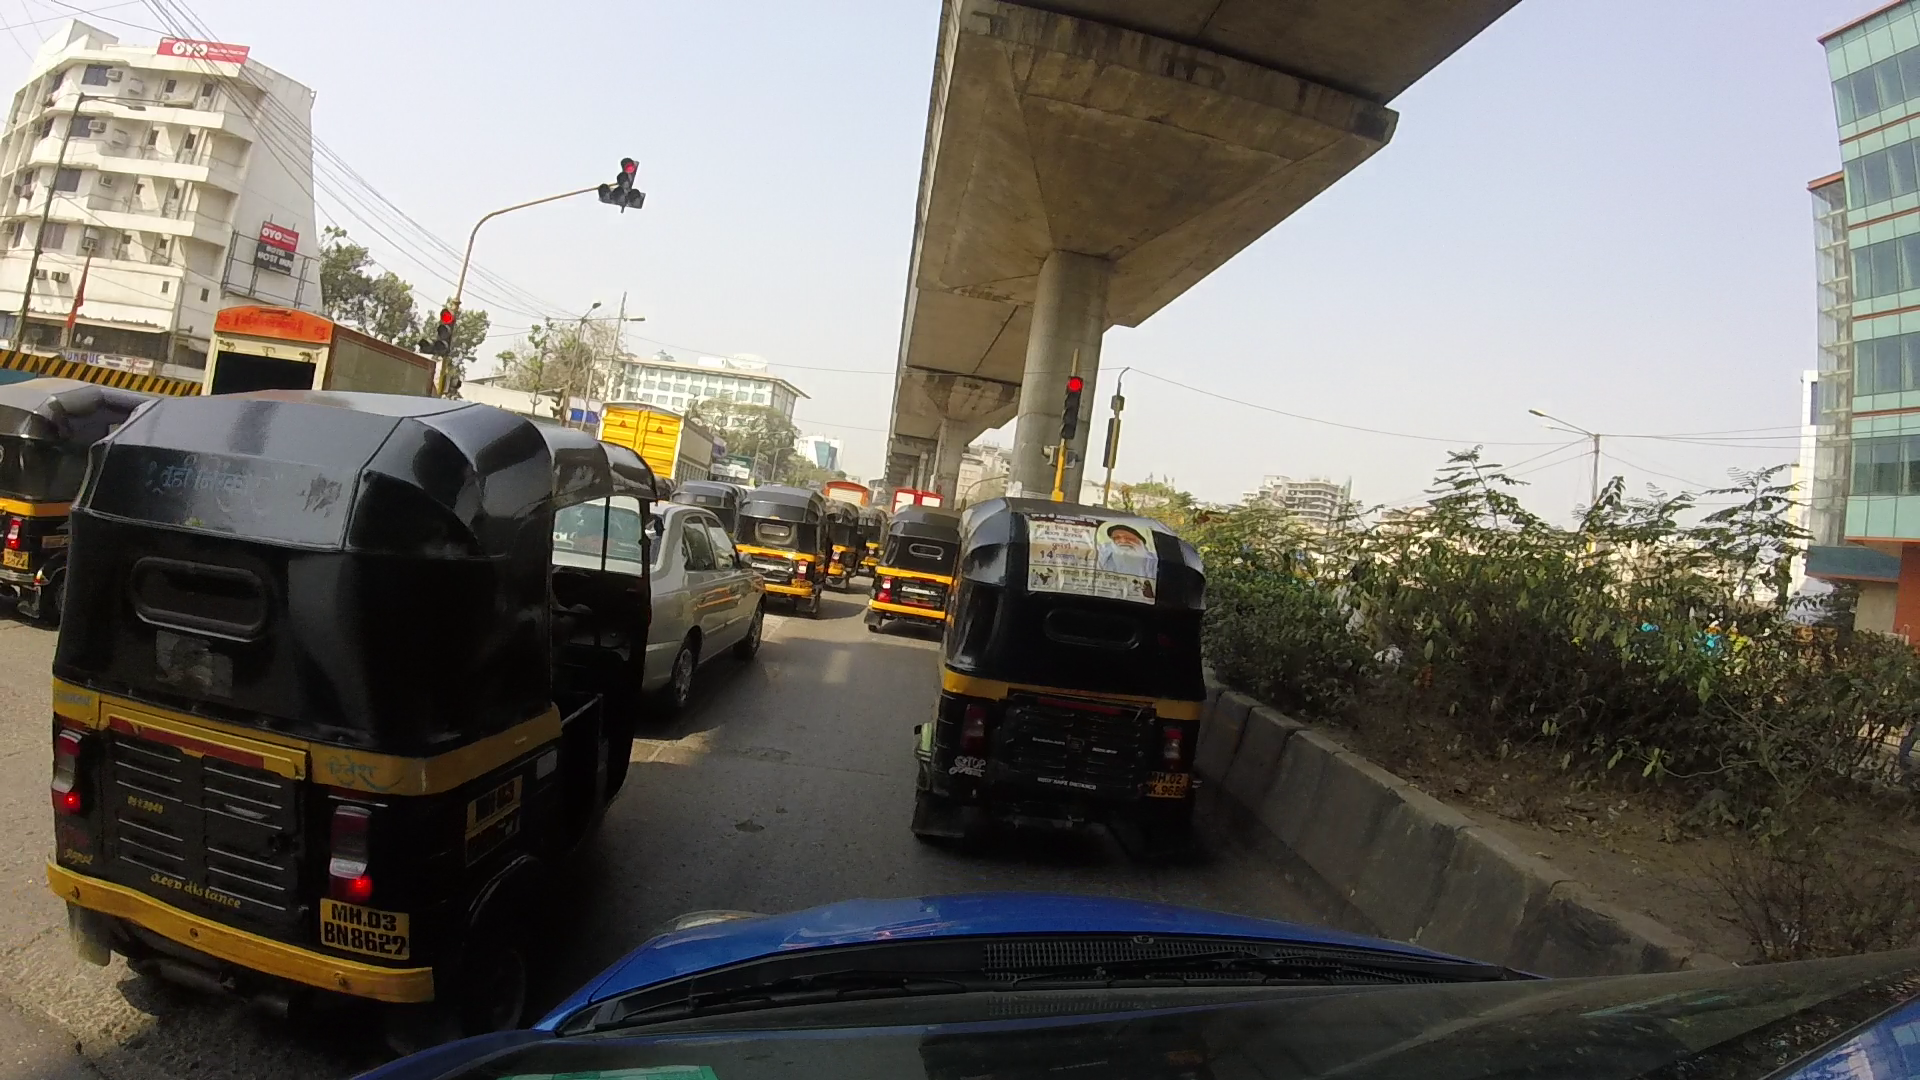car: (549, 464, 783, 713)
rickshaw: (40, 392, 651, 996), (910, 514, 1226, 843), (4, 363, 165, 621), (874, 502, 978, 651), (729, 483, 829, 612)
